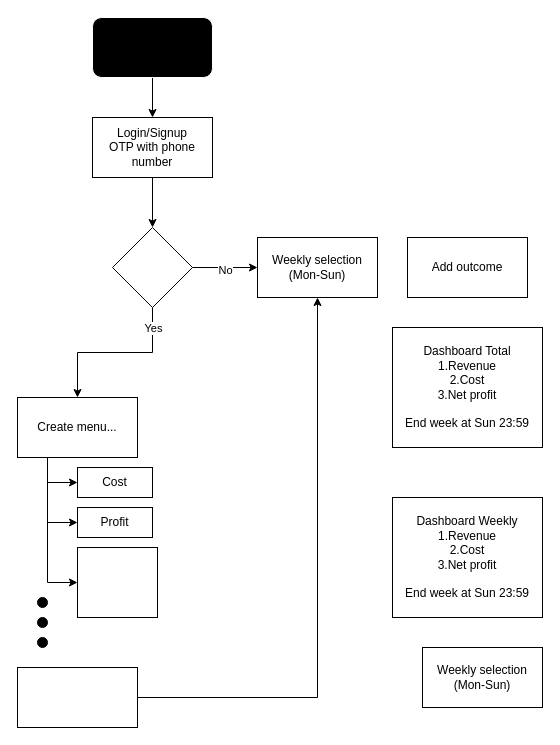
Image size: 560x745. Some labels were removed from this diagram. Each missing label, with the centre of its shape:
Detail ธรรมดา พิเศษ ดาวเจียว?..: the point at 117,582
First time?: the point at 152,267
Menu done: the point at 77,697
Start: the point at 152,47
